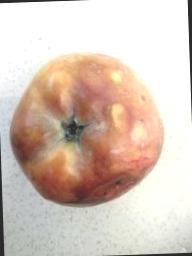Apple Rotten: (8, 48, 172, 232)
